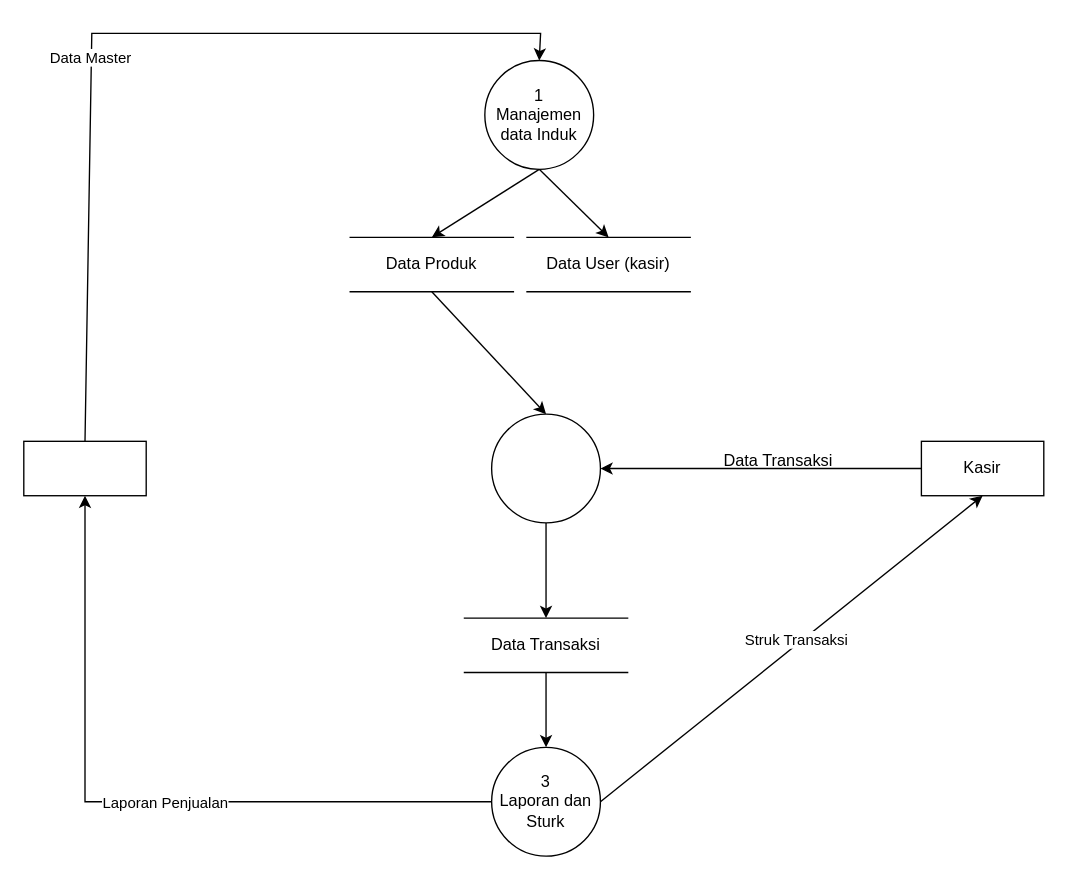
Image size: 1068x880. Some labels were removed from this diagram. Here are the shapes that lost their labels. From the top down, the centre of each, then its label:
At pixel 84 468: "Admin".
At pixel 545 468: "2 Pengelolaan transaksi".
